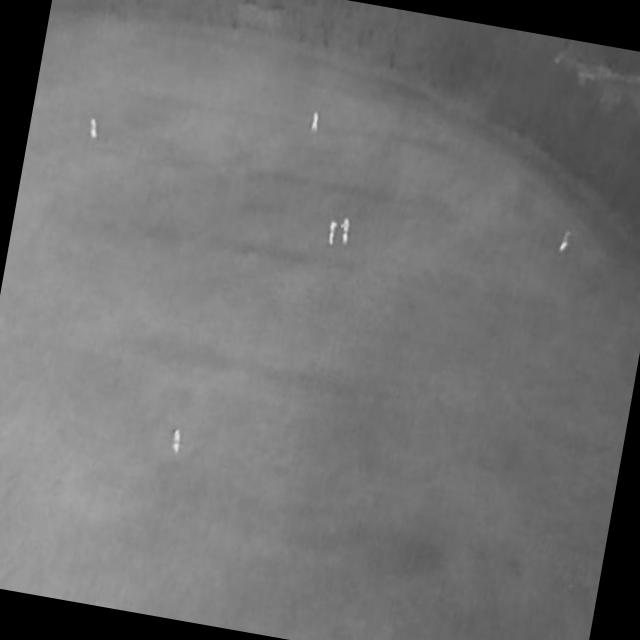person: (557, 227, 572, 255), (338, 217, 352, 247), (169, 427, 183, 456), (327, 219, 339, 247), (87, 118, 101, 141), (309, 110, 321, 134)
